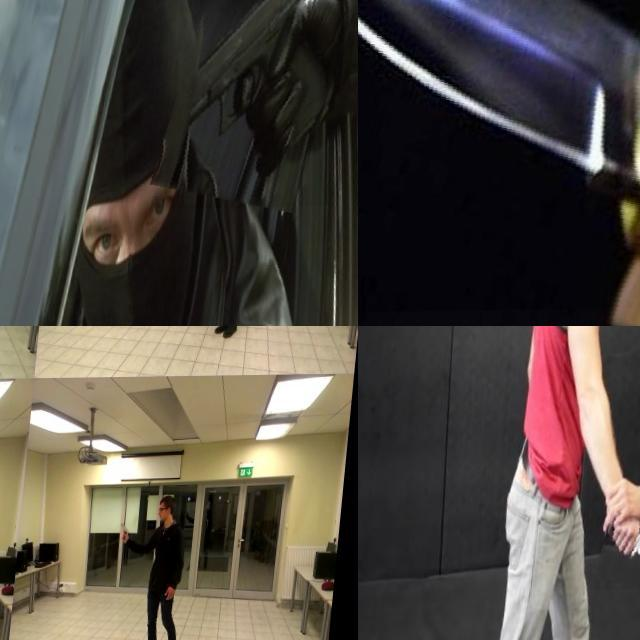-: (358, 0, 640, 315), (604, 515, 640, 590)
gun-knife-thesis - v11 Yolov5 augmented: (169, 0, 358, 209), (125, 518, 140, 543), (193, 326, 211, 337), (0, 520, 8, 540), (0, 326, 9, 339)
